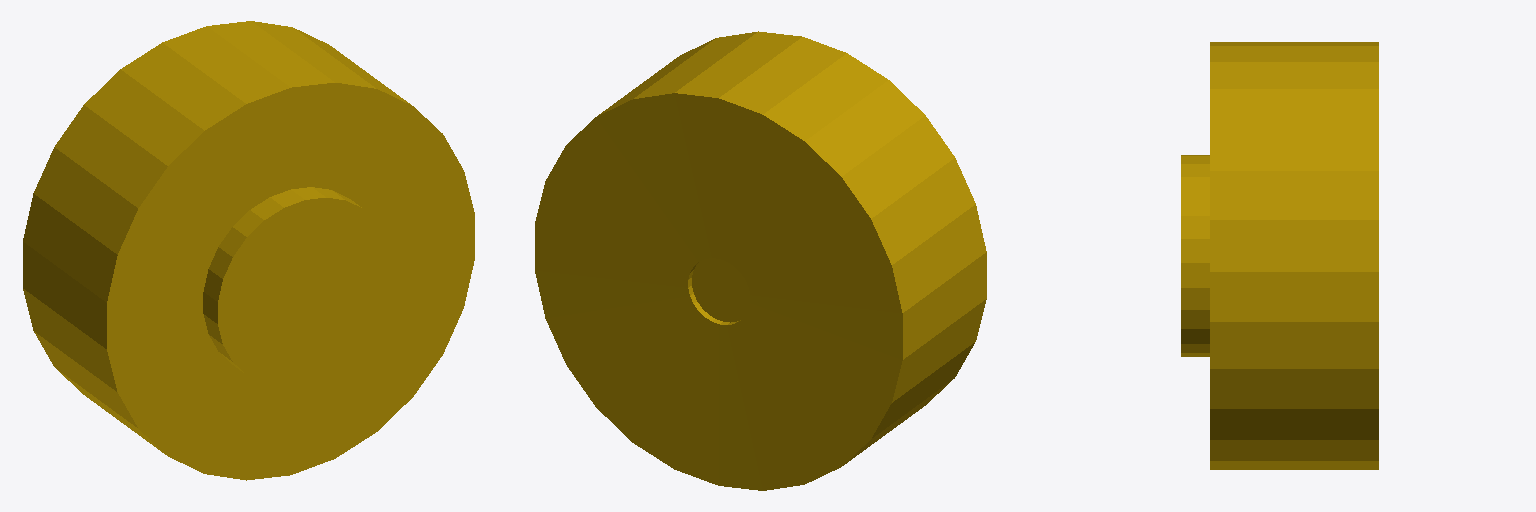
Rendered from boton2.obj.
3 renders of one model, left to right at view 1: azimuth 30°, elevation 25°; view 2: azimuth 150°, elevation 25°; view 3: azimuth 270°, elevation 25°, orthographic.
Parts seen in each view (by area): view 1: Círculo; view 2: Círculo; view 3: Círculo.
Part boxes in pixels (bbox=[...]): Círculo: bbox=[23, 21, 474, 480]; Círculo: bbox=[535, 31, 986, 490]; Círculo: bbox=[1181, 42, 1378, 469].
Bounding box in the file's own units: 1.99 × 2 × 0.9223.